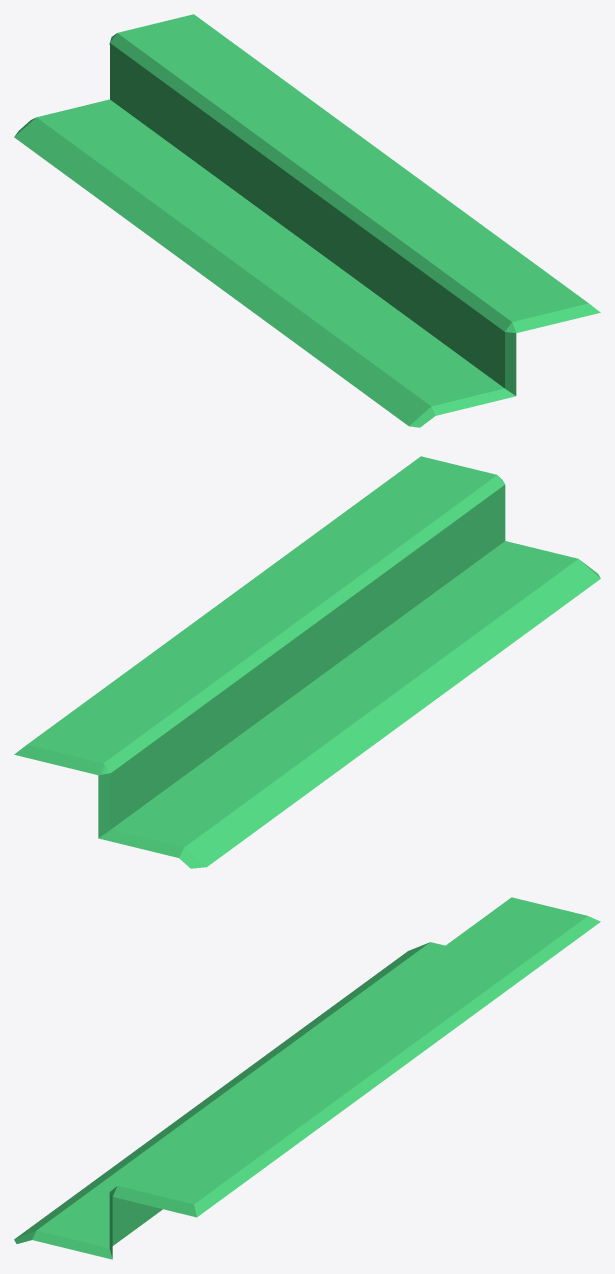
Rendered from mesh_Paving_Straight90_v1.3.fbx.
3 renders of one model, top to bottom at view 1: azimuth 30°, elevation 25°; view 2: azimuth 150°, elevation 25°; view 3: azimuth 330°, elevation 25°, orthographic.
Visible parts, largest first — view 1: mesh_Paving_Straight90; view 2: mesh_Paving_Straight90; view 3: mesh_Paving_Straight90.
Part boxes in pixels (x1=…): mesh_Paving_Straight90: x1=14, y1=14, x2=600, y2=427; mesh_Paving_Straight90: x1=14, y1=456, x2=600, y2=868; mesh_Paving_Straight90: x1=14, y1=897, x2=600, y2=1259.
Size of the model in its own units: 26.8 by 10.77 by 100.
